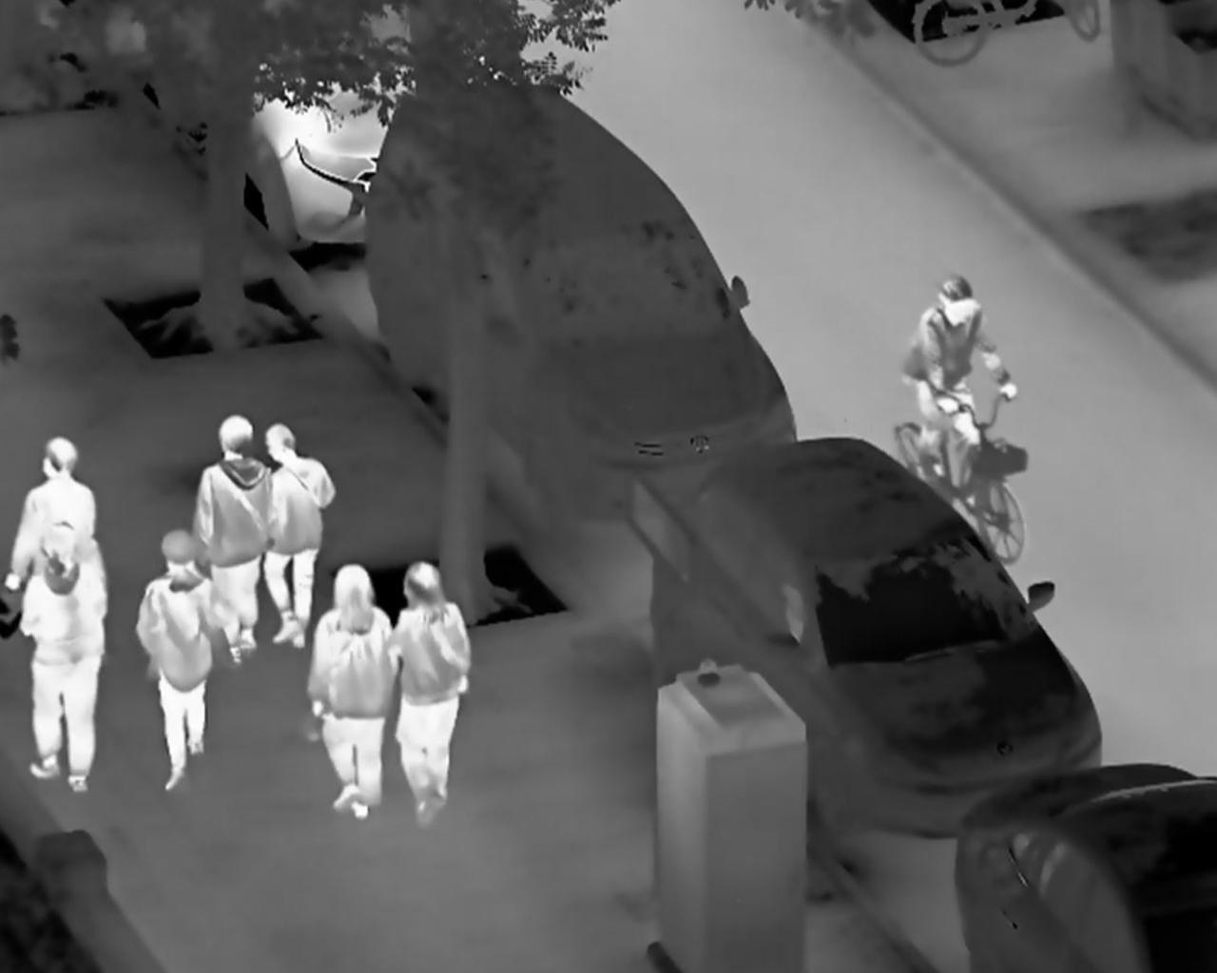person: (900, 275, 1019, 486), (304, 561, 397, 824), (385, 559, 473, 826), (15, 518, 100, 791), (133, 529, 218, 793), (190, 412, 274, 672), (4, 437, 106, 627), (266, 418, 339, 654)
